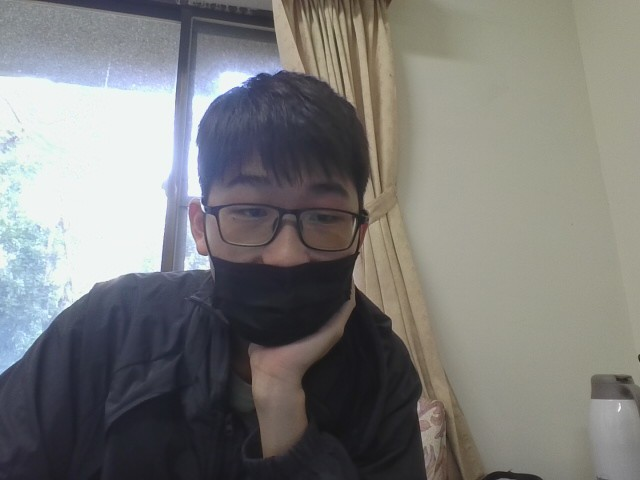No_Helmet: (189, 65, 376, 269)
person: (0, 55, 497, 480)
